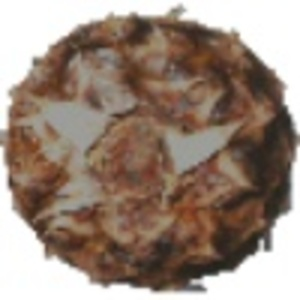abacaxi: (3, 13, 295, 283)
